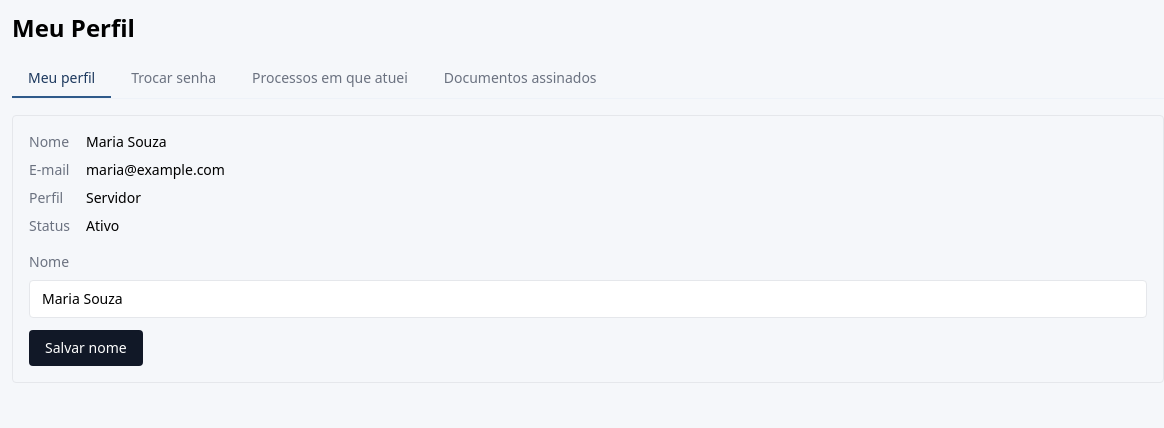
it: PerfilPage — editar o próprio nome (US 1.5) › altera o nome com sucesso e atualiza a tela e o cabeçalho de sessão
Clear the field labelled "Nome" at coordinates (588, 299), box [29, 280, 1147, 318]
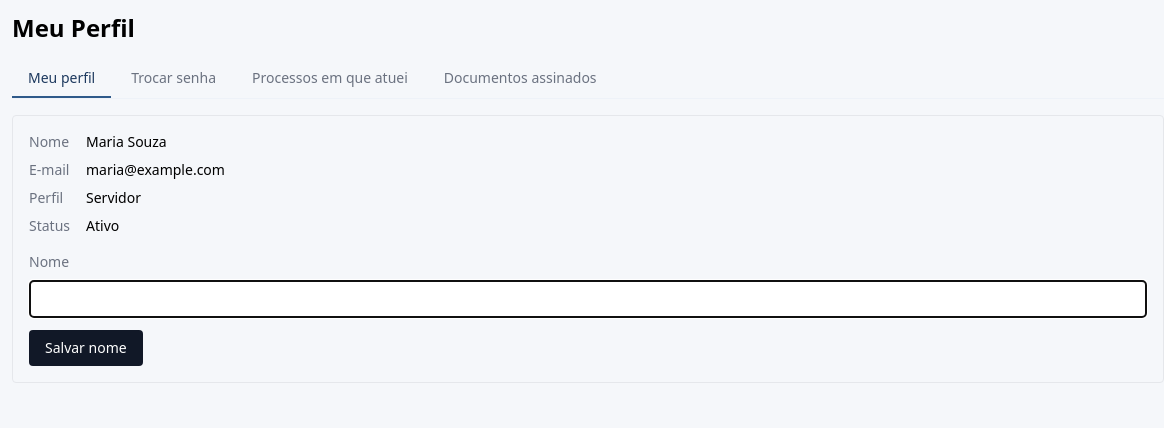
Type "Maria Souza Lima" into the field labelled "Nome" at coordinates (588, 299), box [29, 280, 1147, 318]
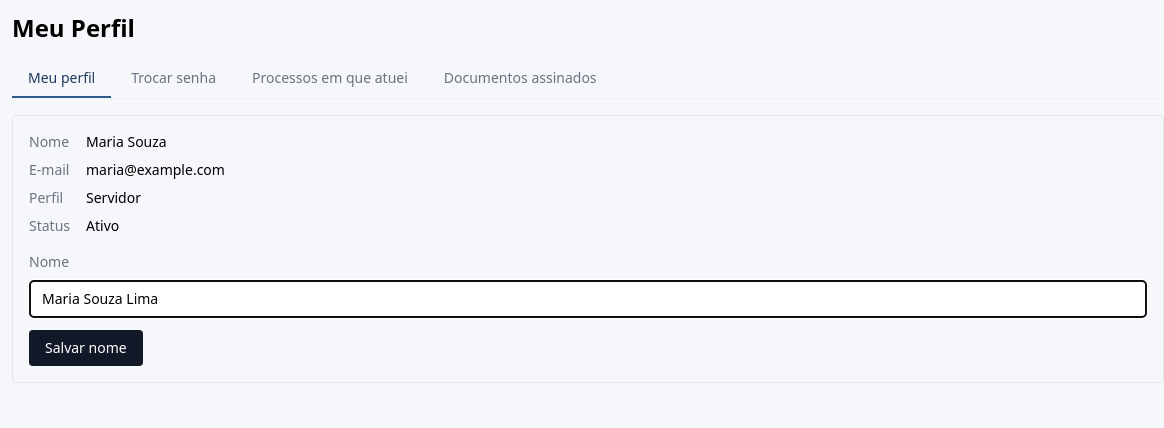
Click the button "Salvar nome" at coordinates (86, 348), box [29, 330, 143, 366]
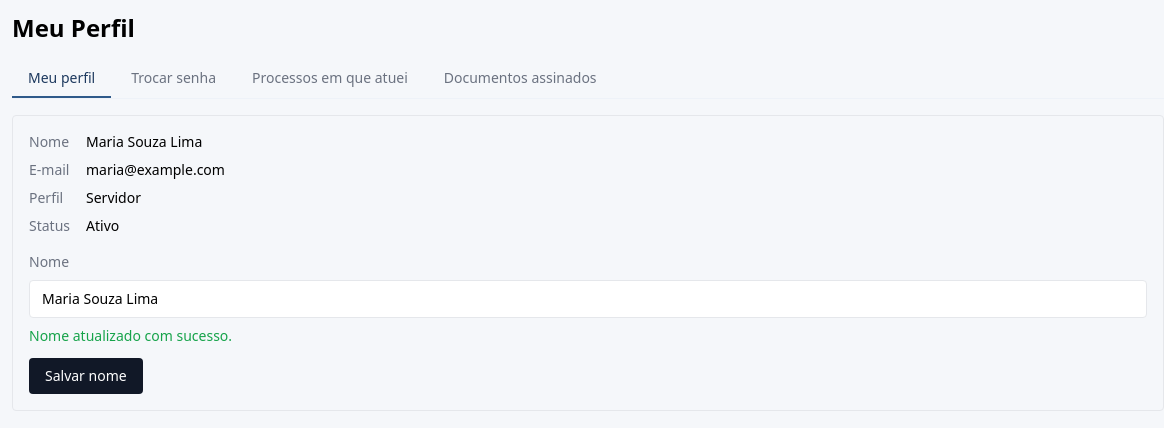
expect the text "Nome atualizado com sucesso." is shown: met, box [29, 326, 232, 345]
